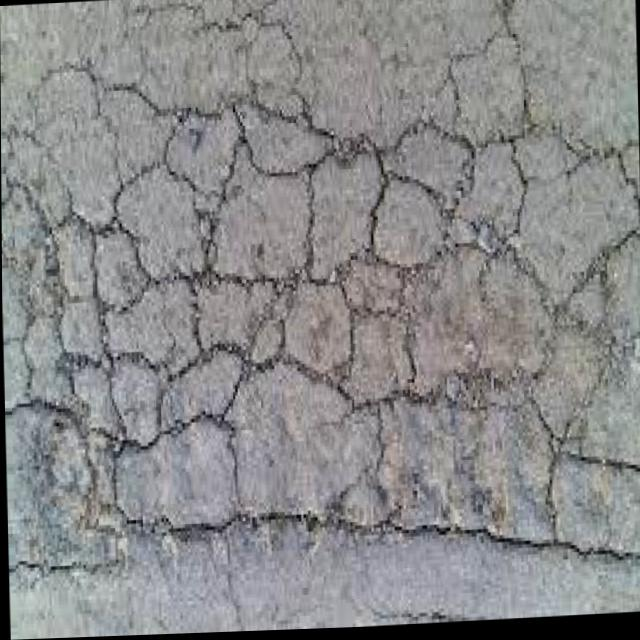Crack: (51, 121, 308, 455), (304, 108, 513, 289), (515, 427, 638, 570), (328, 301, 424, 428)
